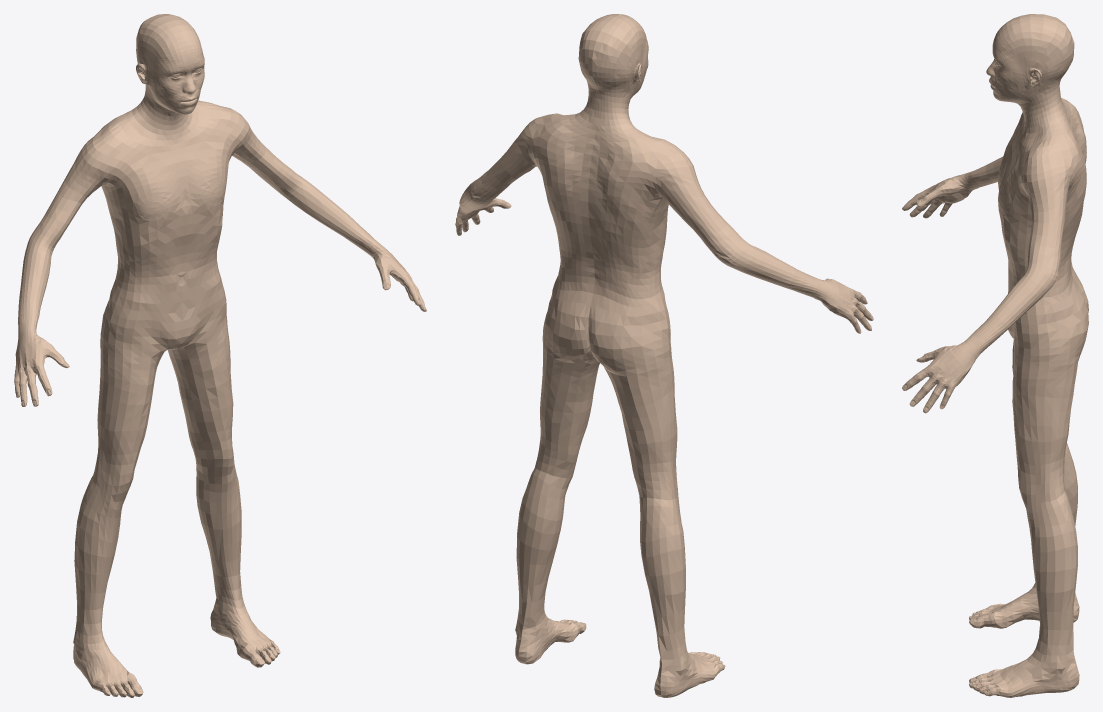
File: male-young-lean-toned.glb
The picture shows the model from 3 angles, left to right: view 1: azimuth 30°, elevation 25°; view 2: azimuth 150°, elevation 25°; view 3: azimuth 270°, elevation 25°; orthographic projection.
Visible parts, largest first — view 1: world; view 2: world; view 3: world.
Part boxes in pixels (box(x1,y1,x2,y2)): world: box(14, 14, 426, 697); world: box(455, 14, 873, 697); world: box(902, 14, 1088, 697).
Size of the model in its own units: 1.24 by 1.89 by 0.5002.
